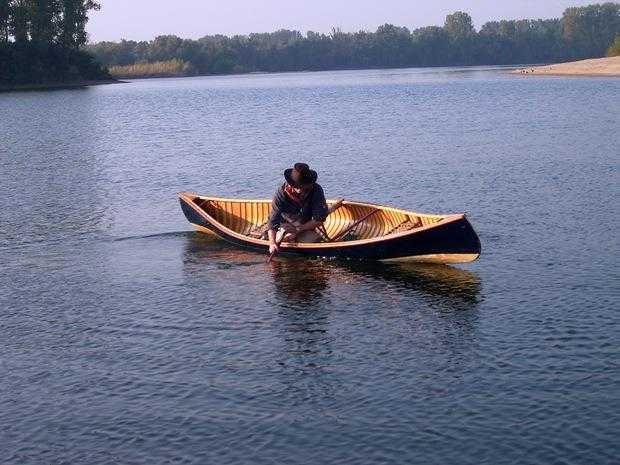kayak: (179, 192, 480, 264), (266, 163, 331, 258)
